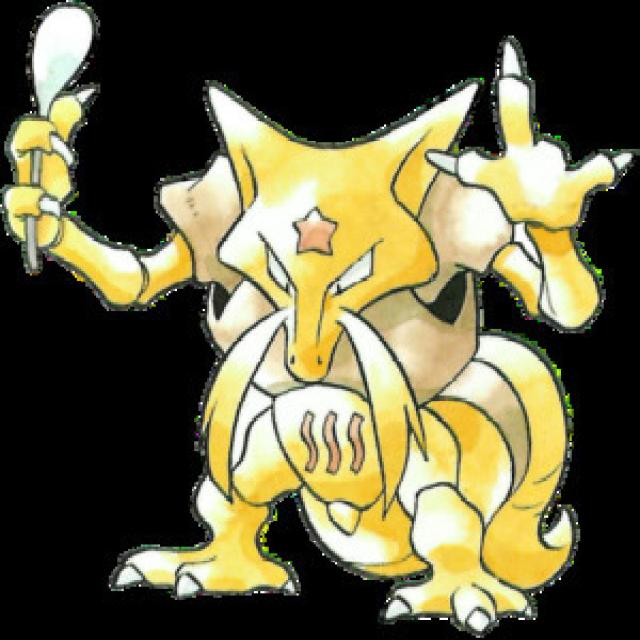Kadabra: (2, 0, 638, 640)
